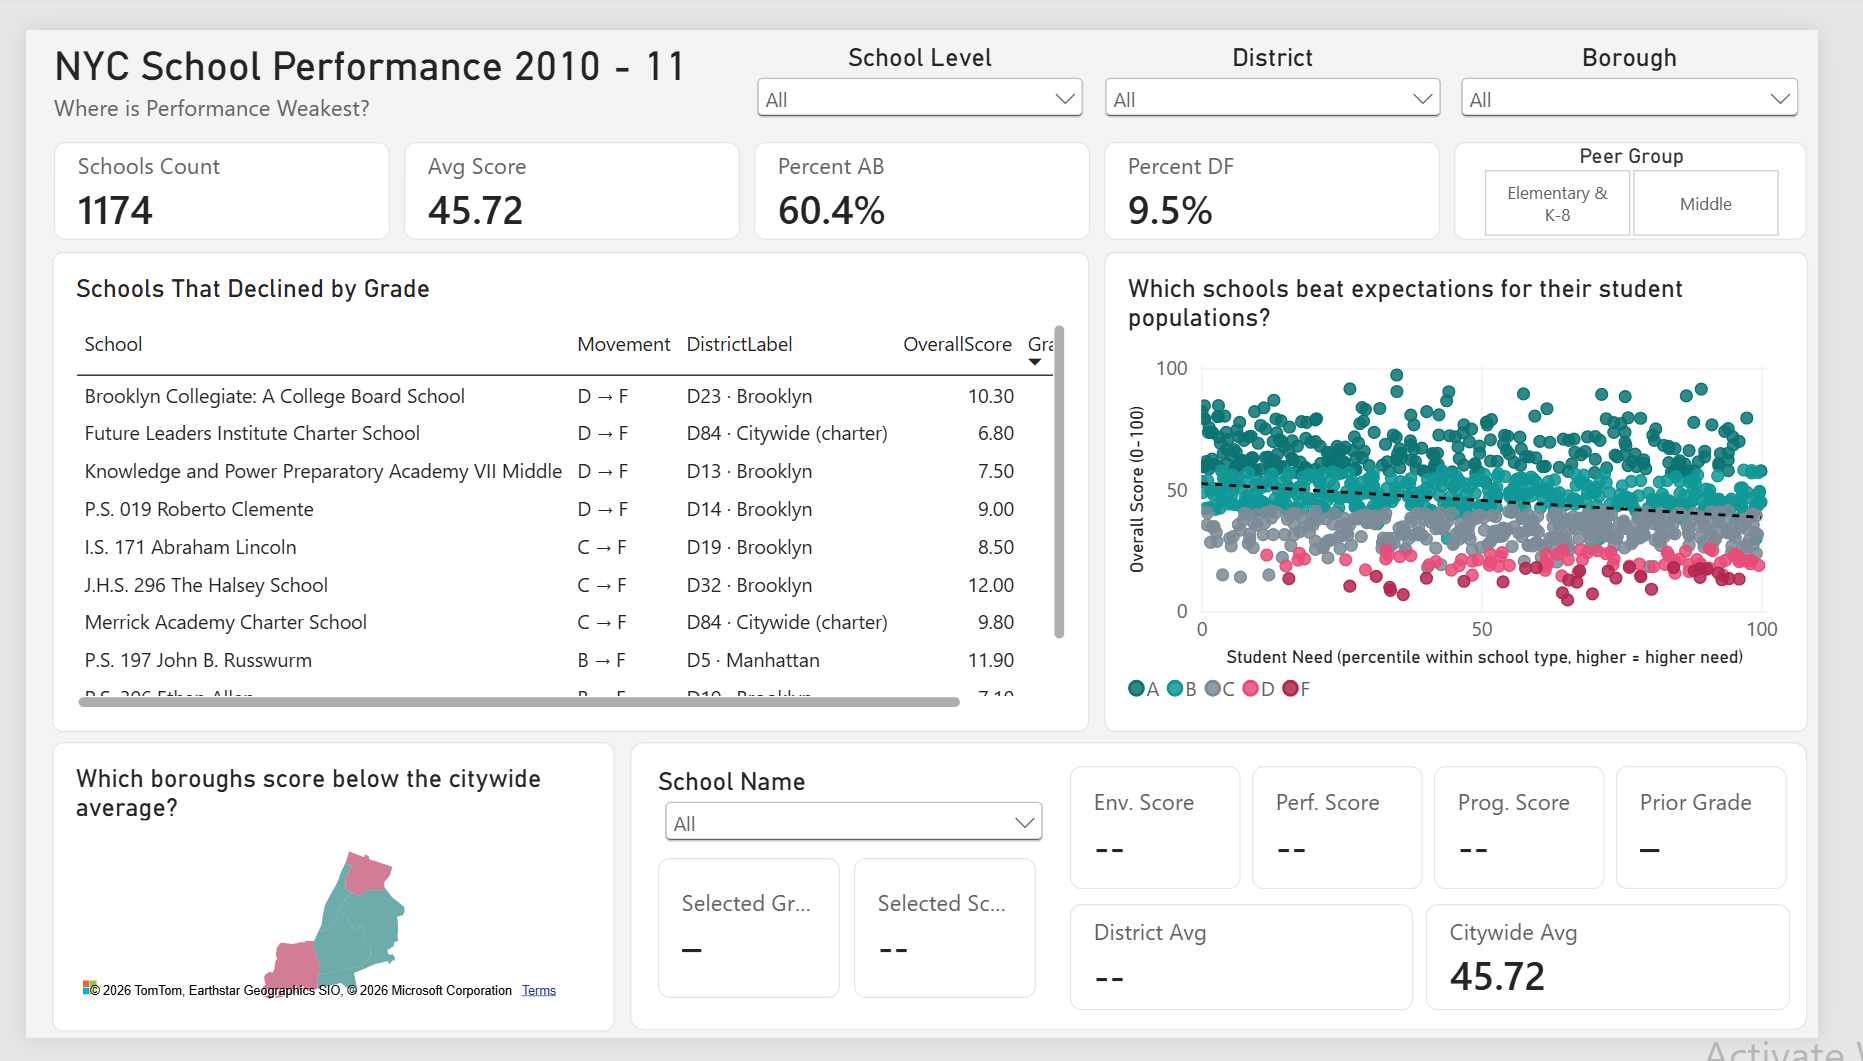

Layout of this report page (visuals, bound fields, positions):
{"tool":"powerbi","page":{"name":"Schools","canvas":[1280,720],"ordinal":0},"visuals":[{"type":"textbox","title":"NYC School Performance 2010 - 11","box":[20,8,477,64],"z":0},{"type":"slicer","title":"School Level","fields":{"Values":["Schools.SchoolLevel"]},"box":[517,8,243,60],"z":1000},{"type":"slicer","title":"District","fields":{"Values":["Schools.DistrictLabel"]},"box":[765,8,250,60],"z":2000},{"type":"cardVisual","fields":{"Data":["Schools.Schools Count"]},"box":[20,80,240,70],"z":3000},{"type":"cardVisual","fields":{"Data":["Schools.Avg Score"]},"box":[270,80,240,70],"z":4000},{"type":"cardVisual","fields":{"Data":["Schools.Percent AB"]},"box":[520,80,240,70],"z":5000},{"type":"cardVisual","title":"Percent DF","fields":{"Data":["Schools.Percent DF"]},"box":[770,80,240,70],"z":6000},{"type":"slicer","title":"Peer Group","fields":{"Values":["Schools.PeerGroup"]},"box":[1020,80,252,70],"z":7000},{"type":"shape","box":[431,509,841,206],"z":9000},{"type":"slicer","title":"School Name","fields":{"Values":["Schools.SchoolLabel"]},"box":[452,525,280,60],"z":11000},{"type":"cardVisual","fields":{"Data":["Schools.Selected Grade"]},"box":[452,592,130,100],"z":12000},{"type":"cardVisual","fields":{"Data":["Schools.Selected Score"]},"box":[592,592,130,100],"z":13000},{"type":"cardVisual","fields":{"Data":["Schools.Sel Env","Schools.Sel Perf","Schools.Sel Prog","Schools.Prior Grade"]},"box":[745,525,515,88],"z":14000},{"type":"cardVisual","fields":{"Data":["Schools.District Avg"]},"box":[745,624,245,76],"z":15000},{"type":"cardVisual","fields":{"Data":["Schools.Citywide Avg"]},"box":[1000,624,260,76],"z":16000},{"type":"slicer","title":"Borough","fields":{"Values":["Schools.Borough"]},"box":[1020,8,251,60],"z":17000},{"type":"tableEx","title":"Schools That Declined by Grade","fields":{"Values":["Schools.School","Schools.Movement","Schools.DistrictLabel","Schools.OverallScore","Schools.GradeChange"]},"box":[19,158,741,343],"z":19000},{"type":"scatterChart","title":"Which schools beat expectations for their student populations?","fields":{"Category":["Schools.SchoolLabel"],"Series":["Schools.OverallGrade"],"X":["Avg(Schools.NeedPercentile)"],"Y":["Avg(Schools.OverallScore)"]},"box":[770,158,503,343],"z":19001},{"type":"filledMap","title":"Which boroughs score below the citywide average?","fields":{"Category":["Schools.CountyName"]},"box":[19,509,402,207],"z":19002}]}

Visuals, with their boxes in screenshot pixels (x1, y1, x2, y2), scaled from the page's 1280x720 canvas onto the 1863x1061 screenshot:
"NYC School Performance 2010 - 11" textbox: (left=29, top=12, right=723, bottom=106)
"School Level" slicer: (left=752, top=12, right=1106, bottom=100)
"District" slicer: (left=1113, top=12, right=1477, bottom=100)
cardVisual - Schools.Schools Count: (left=29, top=118, right=378, bottom=221)
cardVisual - Schools.Avg Score: (left=393, top=118, right=742, bottom=221)
cardVisual - Schools.Percent AB: (left=757, top=118, right=1106, bottom=221)
"Percent DF" cardVisual: (left=1121, top=118, right=1470, bottom=221)
"Peer Group" slicer: (left=1485, top=118, right=1851, bottom=221)
shape: (left=627, top=750, right=1851, bottom=1054)
"School Name" slicer: (left=658, top=774, right=1065, bottom=862)
cardVisual - Schools.Selected Grade: (left=658, top=872, right=847, bottom=1020)
cardVisual - Schools.Selected Score: (left=862, top=872, right=1051, bottom=1020)
cardVisual - Schools.Sel Env x Schools.Sel Perf: (left=1084, top=774, right=1834, bottom=903)
cardVisual - Schools.District Avg: (left=1084, top=920, right=1441, bottom=1032)
cardVisual - Schools.Citywide Avg: (left=1455, top=920, right=1834, bottom=1032)
"Borough" slicer: (left=1485, top=12, right=1850, bottom=100)
"Schools That Declined by Grade" tableEx: (left=28, top=233, right=1106, bottom=738)
"Which schools beat expectations for their student populations?" scatterChart: (left=1121, top=233, right=1853, bottom=738)
"Which boroughs score below the citywide average?" filledMap: (left=28, top=750, right=613, bottom=1055)
